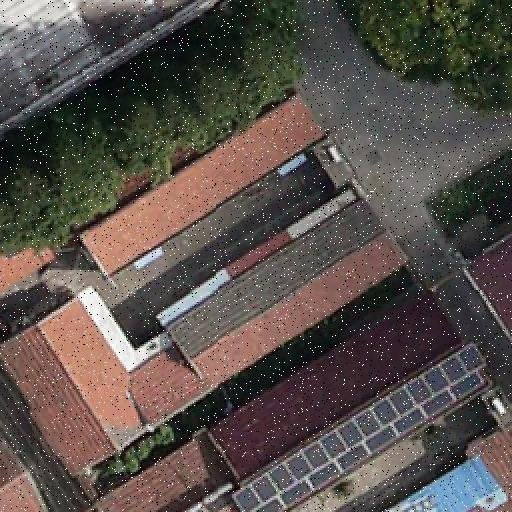solar-panel: (227, 340, 497, 510)
